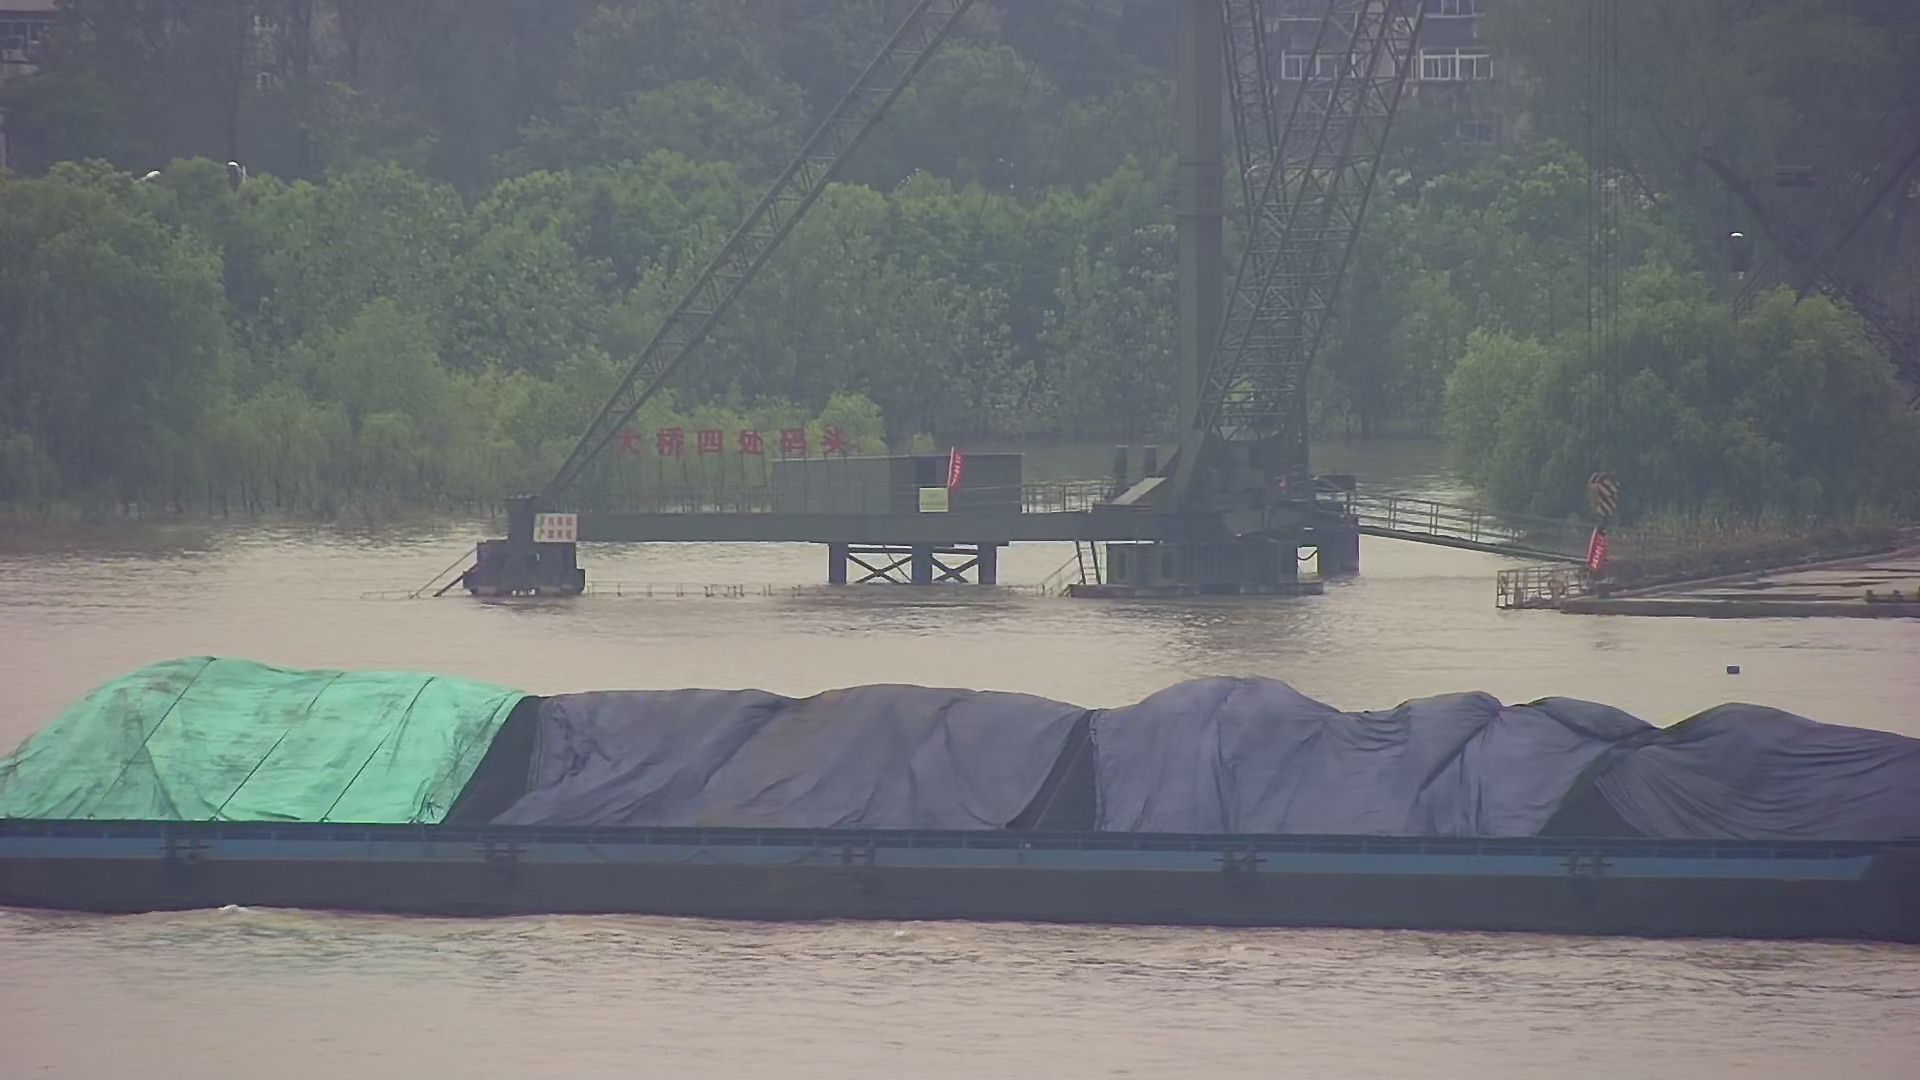platform: (415, 8, 1482, 607)
rubbish: (1716, 653, 1758, 682)
ship: (12, 644, 1920, 942)
